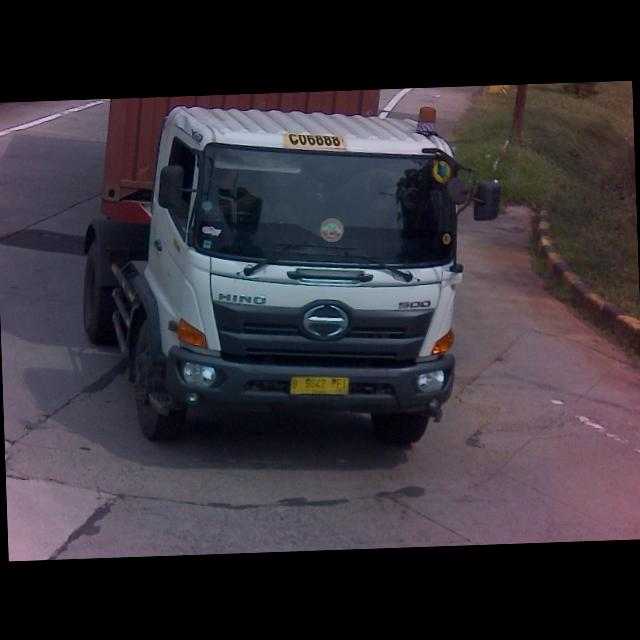plate: (289, 372, 352, 398)
